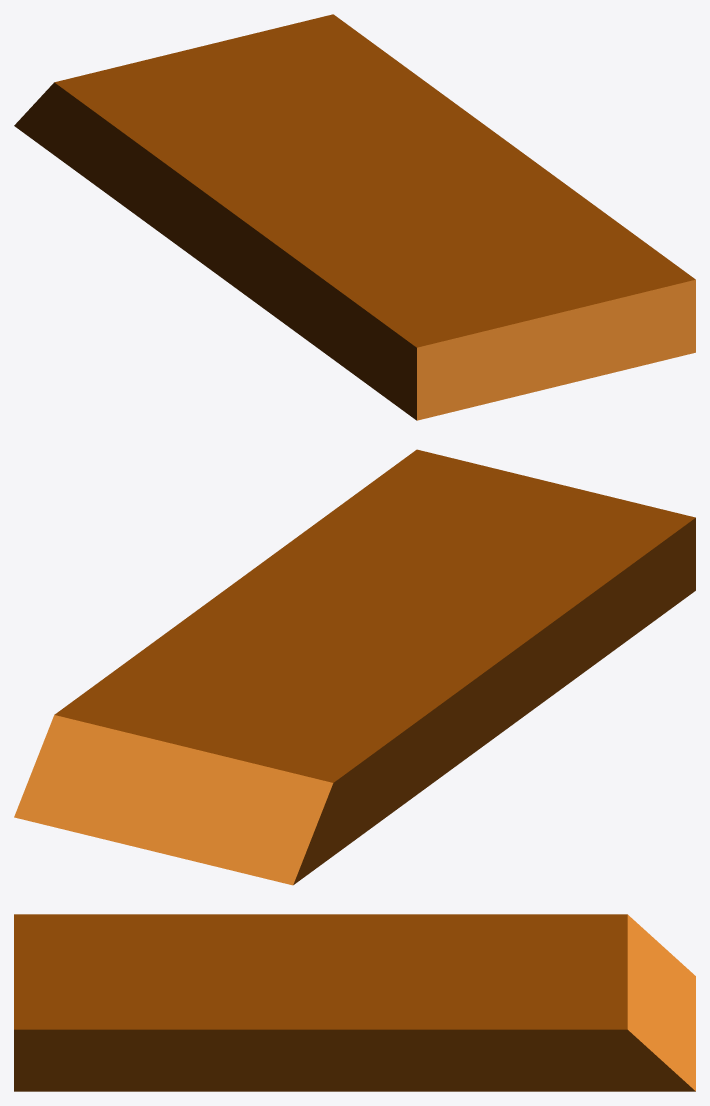
File: 50cmstep1.dae
3 views of the same model, one above another, from view 1: azimuth 30°, elevation 25°; view 2: azimuth 150°, elevation 25°; view 3: azimuth 270°, elevation 25° (orthographic). The views are drawn at different scales.
Visible parts, largest first — view 1: SketchUp (×3); view 2: SketchUp (×3); view 3: SketchUp (×3).
Part boxes in pixels (box(x1,y1,x2,y2)): SketchUp (×3): box(14, 14, 695, 420); SketchUp (×3): box(14, 449, 695, 885); SketchUp (×3): box(14, 914, 695, 1091).
Bounding box in the file's own units: 78.74 × 197 × 19.69.
